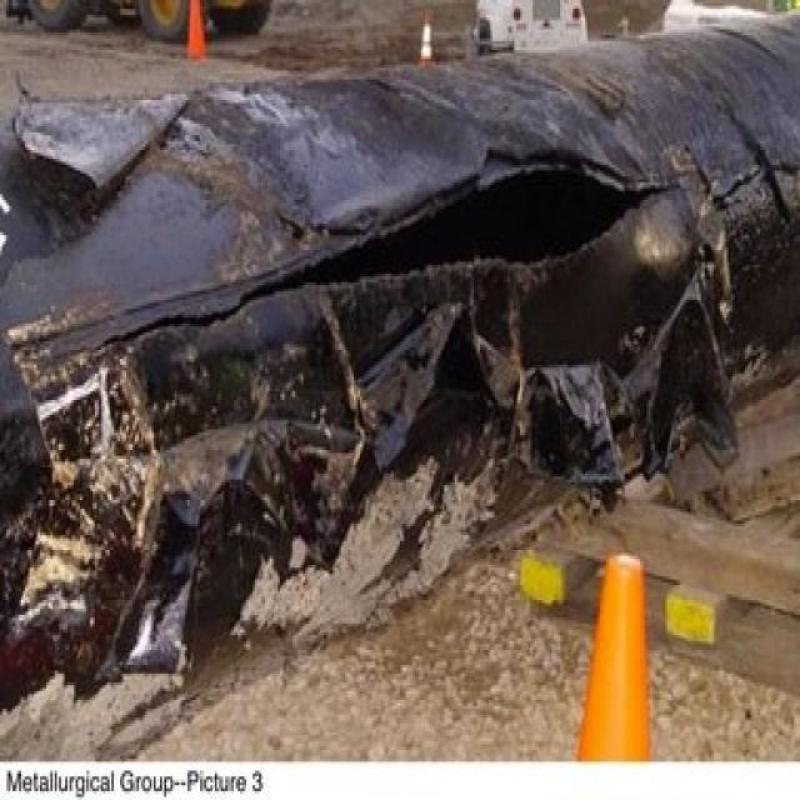Fracture: (119, 138, 673, 367)
